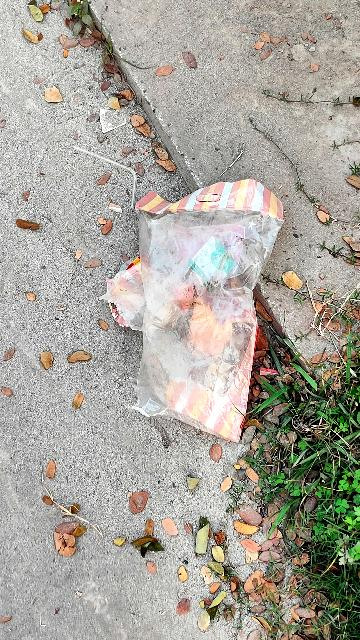polythene: (118, 145, 280, 452)
